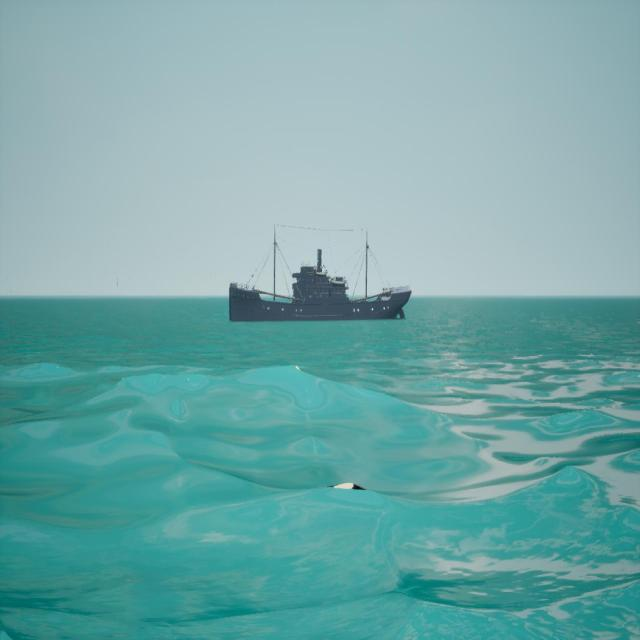fishing ship: (230, 227, 414, 325)
